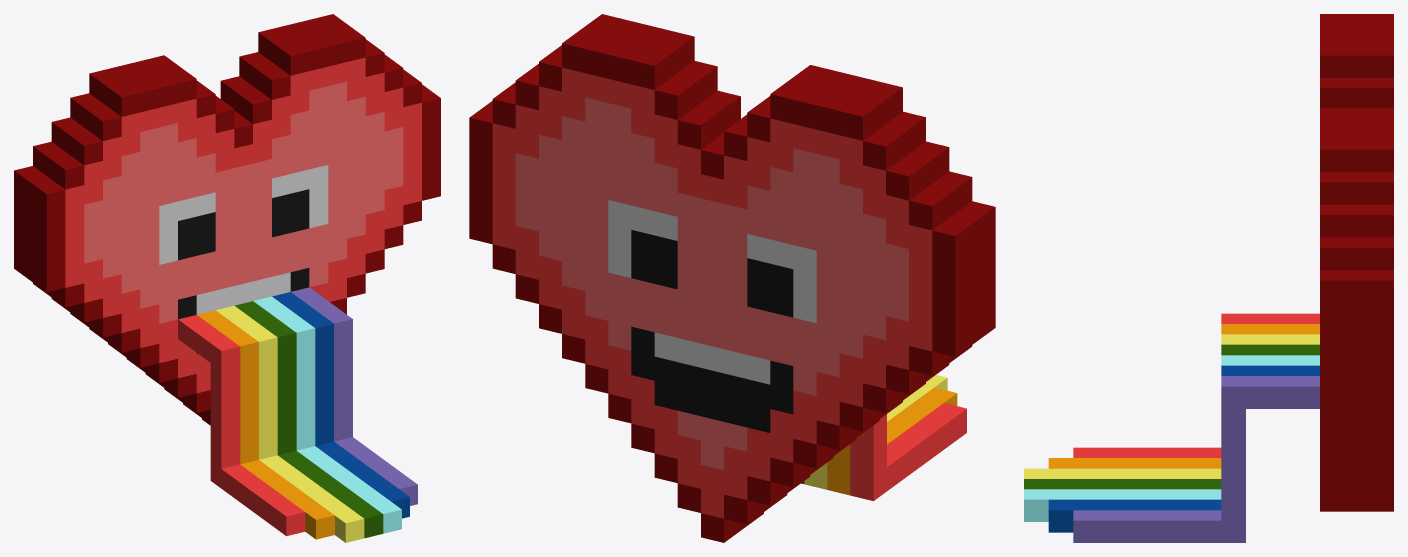
The model's file is lv23 heart.fbx.
The picture shows the model from 3 angles, left to right: view 1: azimuth 30°, elevation 25°; view 2: azimuth 150°, elevation 25°; view 3: azimuth 270°, elevation 25°; orthographic projection. The views are drawn at different scales.
Visible parts, largest first — view 1: polySurface425, polySurface569, polySurface636, polySurface85, polySurface405, polySurface423, polySurface558, polySurface59, polySurface393, polySurface9, polySurface394, polySurface560 (+37 smaller); view 2: polySurface265, polySurface271, polySurface263, polySurface284, polySurface326, polySurface103, polySurface272, polySurface344, polySurface137, polySurface201, polySurface275, polySurface526 (+46 smaller); view 3: polySurface568, polySurface580, polySurface581, polySurface567, polySurface582, polySurface583, polySurface604, polySurface627, polySurface641, polySurface651, polySurface23, polySurface44 (+39 smaller).
Boxes of the visible parts, box(x1,y1,x2,y2) form: polySurface425: box(54, 157, 84, 189); polySurface569: box(275, 504, 305, 536); polySurface636: box(210, 338, 240, 370); polySurface85: box(35, 182, 65, 213); polySurface405: box(73, 133, 102, 165); polySurface423: box(242, 92, 271, 123); polySurface558: box(305, 507, 334, 539); polySurface59: box(280, 43, 309, 75); polySurface393: box(92, 109, 121, 140); polySurface9: box(261, 68, 290, 99); polySurface394: box(111, 85, 140, 116); polySurface560: box(335, 511, 364, 542); polySurface265: box(677, 110, 714, 149); polySurface271: box(839, 101, 876, 140); polySurface263: box(909, 191, 945, 230); polySurface284: box(886, 161, 922, 200); polySurface326: box(932, 221, 968, 260); polySurface103: box(631, 50, 667, 89); polySurface272: box(863, 131, 899, 170); polySurface344: box(654, 80, 690, 119); polySurface137: box(932, 251, 968, 284); polySurface201: box(932, 299, 968, 332); polySurface275: box(932, 275, 968, 308); polySurface526: box(850, 443, 886, 476); polySurface568: box(1048, 499, 1073, 532); polySurface580: box(1344, 237, 1369, 270); polySurface581: box(1344, 204, 1369, 237); polySurface567: box(1122, 510, 1147, 542); polySurface582: box(1344, 172, 1369, 204); polySurface583: box(1344, 139, 1369, 171); polySurface604: box(1344, 45, 1369, 77); polySurface627: box(1344, 270, 1369, 302); polySurface641: box(1270, 376, 1295, 408); polySurface651: box(1196, 510, 1221, 542); polySurface23: box(1320, 237, 1344, 270); polySurface44: box(1320, 204, 1344, 237).
Bounding box in the file's own units: 21 × 19 × 15.
